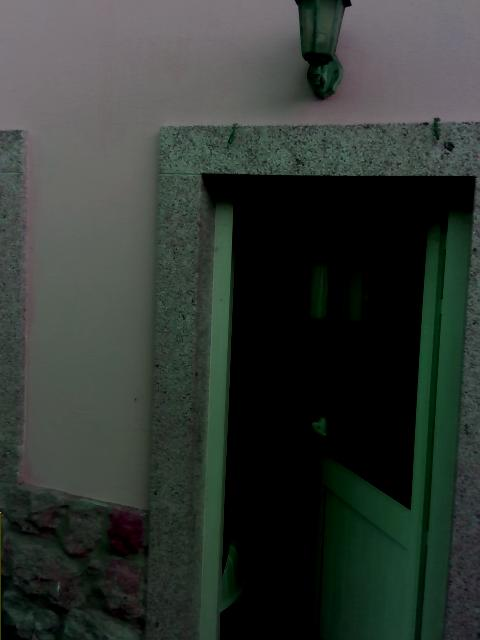semi_door: (198, 170, 476, 639)
